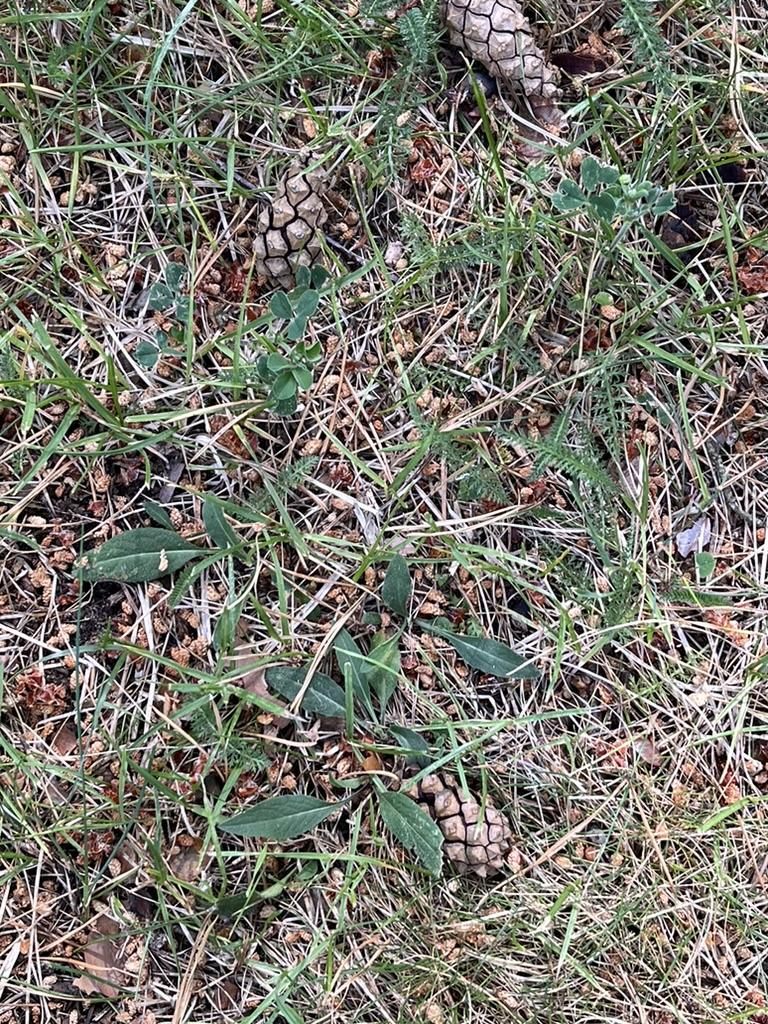pine: (391, 760, 526, 893), (426, 0, 571, 123), (241, 143, 346, 306)
